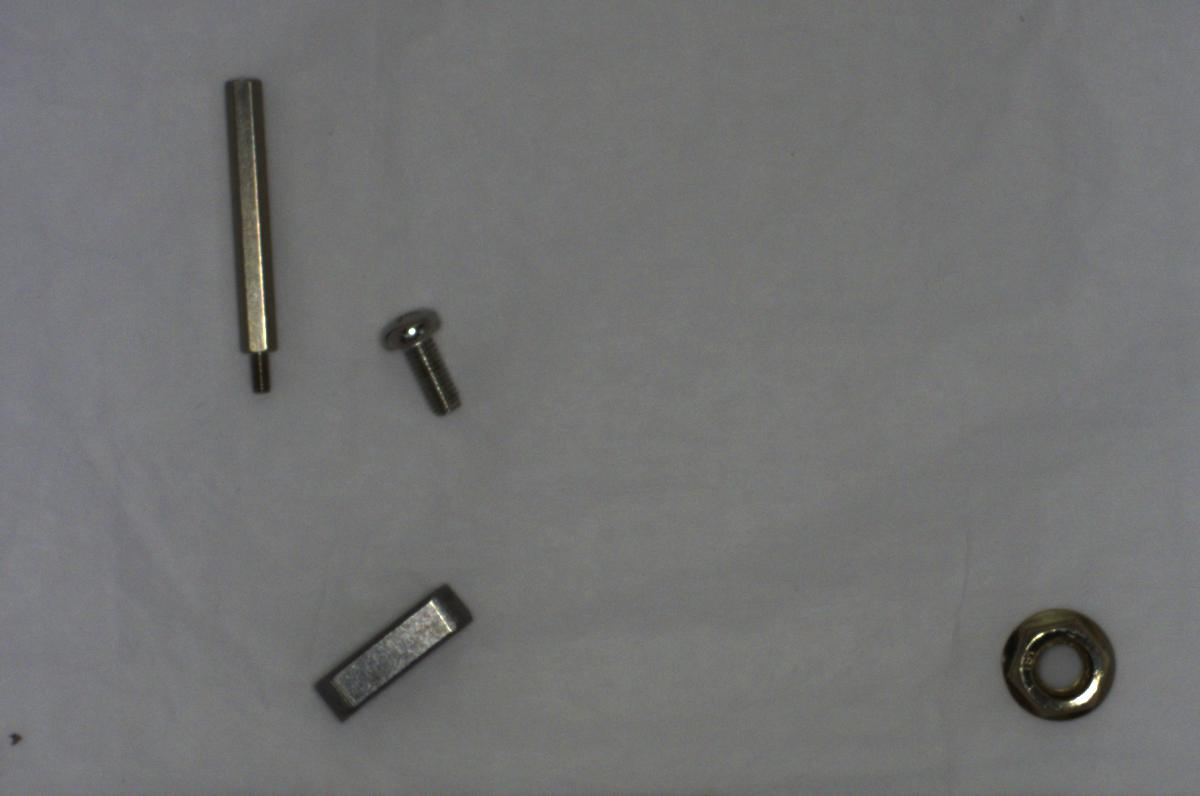Flange nut: (993, 601, 1125, 725)
Hexagonal steel column: (207, 75, 293, 396)
Keybar: (307, 570, 481, 733)
Round head screw: (368, 299, 470, 422)
